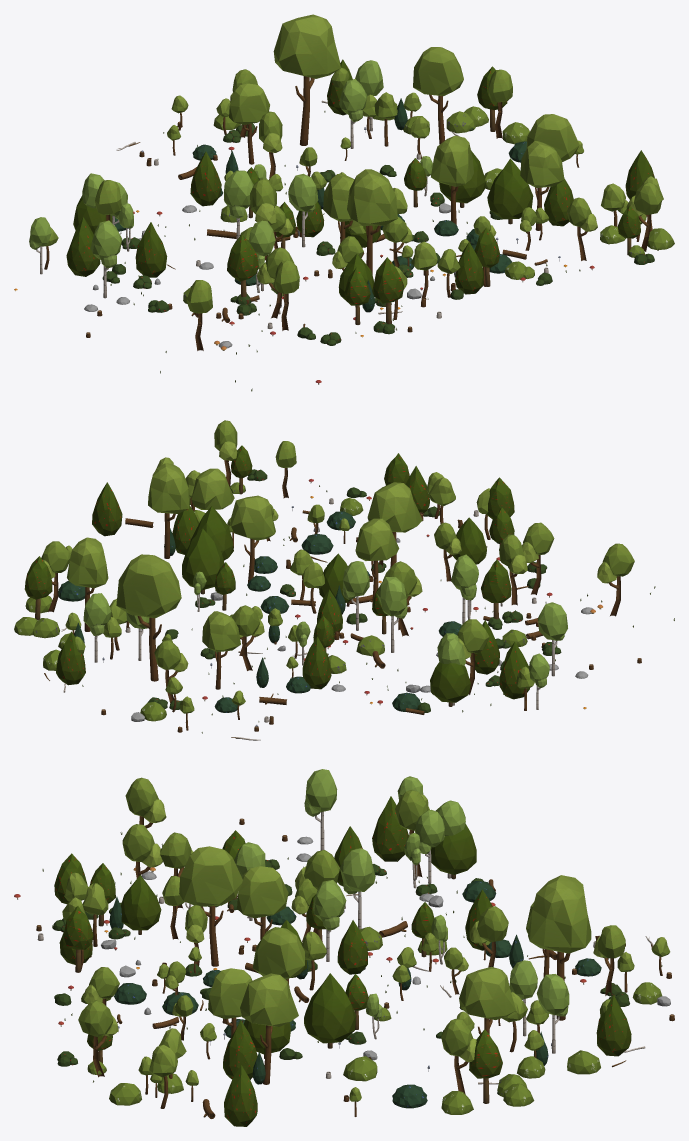
3 views of the same model, one above another, from view 1: azimuth 30°, elevation 25°; view 2: azimuth 150°, elevation 25°; view 3: azimuth 270°, elevation 25° (orthographic). The views are drawn at different scales.
Visible parts, largest first — view 1: Beechtree3 - copy.041, Beechtree3 - copy.014, Beechtree3 - copy.057, Beechtree3 - copy.060, Hollytree2 - copy.033, Beechtree3 - copy.017, Beechtree3 - copy.046, Beechtree3 - copy.042, Hollytree3 - copy.015, Beechtree3 - copy.054, Hollytree3 - copy.058, BirchTree3 - copy.035 (+35 smaller); view 2: Beechtree3 - copy.041, Beechtree3 - copy.042, Beechtree3 - copy.014, Beechtree3 - copy.060, Beechtree3 - copy.057, Beechtree3 - copy.054, Hollytree2 - copy.030, Beechtree3 - copy.046, Beechtree3 - copy.017, Hollytree2 - copy.028, Beechtree2 - copy.080, BirchTree3 - copy.021 (+38 smaller); view 3: Beechtree3 - copy.041, Beechtree3 - copy.014, Beechtree3 - copy.042, Hollytree2 - copy.030, Beechtree3 - copy.057, Beechtree3 - copy.054, Beechtree3 - copy.060, Beechtree3 - copy.017, Hollytree2 - copy.009, Hollytree2 - copy.028, Hollytree3 - copy.015, Hollytree3 - copy.001 (+44 smaller).
Part boxes in pixels (x1,y1,x2,y2): Beechtree3 - copy.041: (273,14,340,145); Beechtree3 - copy.014: (347,169,397,274); Beechtree3 - copy.057: (413,47,463,144); Beechtree3 - copy.060: (431,135,473,224); Hollytree2 - copy.033: (487,158,533,224); Beechtree3 - copy.017: (520,141,564,230); Beechtree3 - copy.046: (229,83,269,164); Beechtree3 - copy.042: (526,114,579,162); Hollytree3 - copy.015: (66,217,100,276); Beechtree3 - copy.054: (323,173,354,243); Hollytree3 - copy.058: (135,222,167,277); BirchTree3 - copy.035: (90,220,122,298); Beechtree3 - copy.041: (116,554,181,681); Beechtree3 - copy.042: (148,463,189,558); Beechtree3 - copy.014: (367,482,422,567); Beechtree3 - copy.060: (230,495,275,582); Beechtree3 - copy.057: (67,537,108,631); Beechtree3 - copy.054: (355,518,399,604); Hollytree2 - copy.030: (182,528,224,594); Beechtree3 - copy.046: (202,611,240,689); Beechtree3 - copy.017: (191,468,234,509); Hollytree2 - copy.028: (430,662,470,706); Beechtree2 - copy.080: (597,543,634,616); BirchTree3 - copy.021: (377,577,407,652); Beechtree3 - copy.041: (528,875,591,1020); Beechtree3 - copy.014: (179,846,242,966); Beechtree3 - copy.042: (240,973,298,1084); Hollytree2 - copy.030: (304,973,356,1048); Beechtree3 - copy.057: (459,966,515,1034); Beechtree3 - copy.054: (237,866,288,939); Beechtree3 - copy.060: (252,927,304,987); Beechtree3 - copy.017: (208,968,252,1036); Hollytree2 - copy.009: (121,875,161,934); Hollytree2 - copy.028: (431,824,476,879); Hollytree3 - copy.015: (372,796,408,861); Hollytree3 - copy.001: (224,1065,257,1126).
Bounding box in the file's own units: 97.51 × 21.62 × 87.44.
34 materials, 34 textured.
